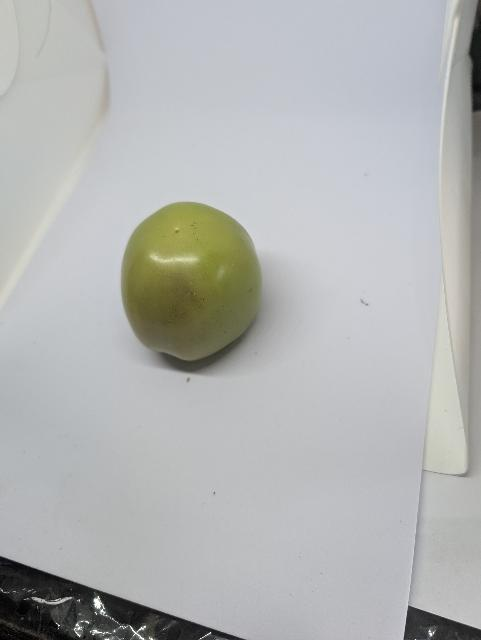green: (118, 193, 282, 373)
